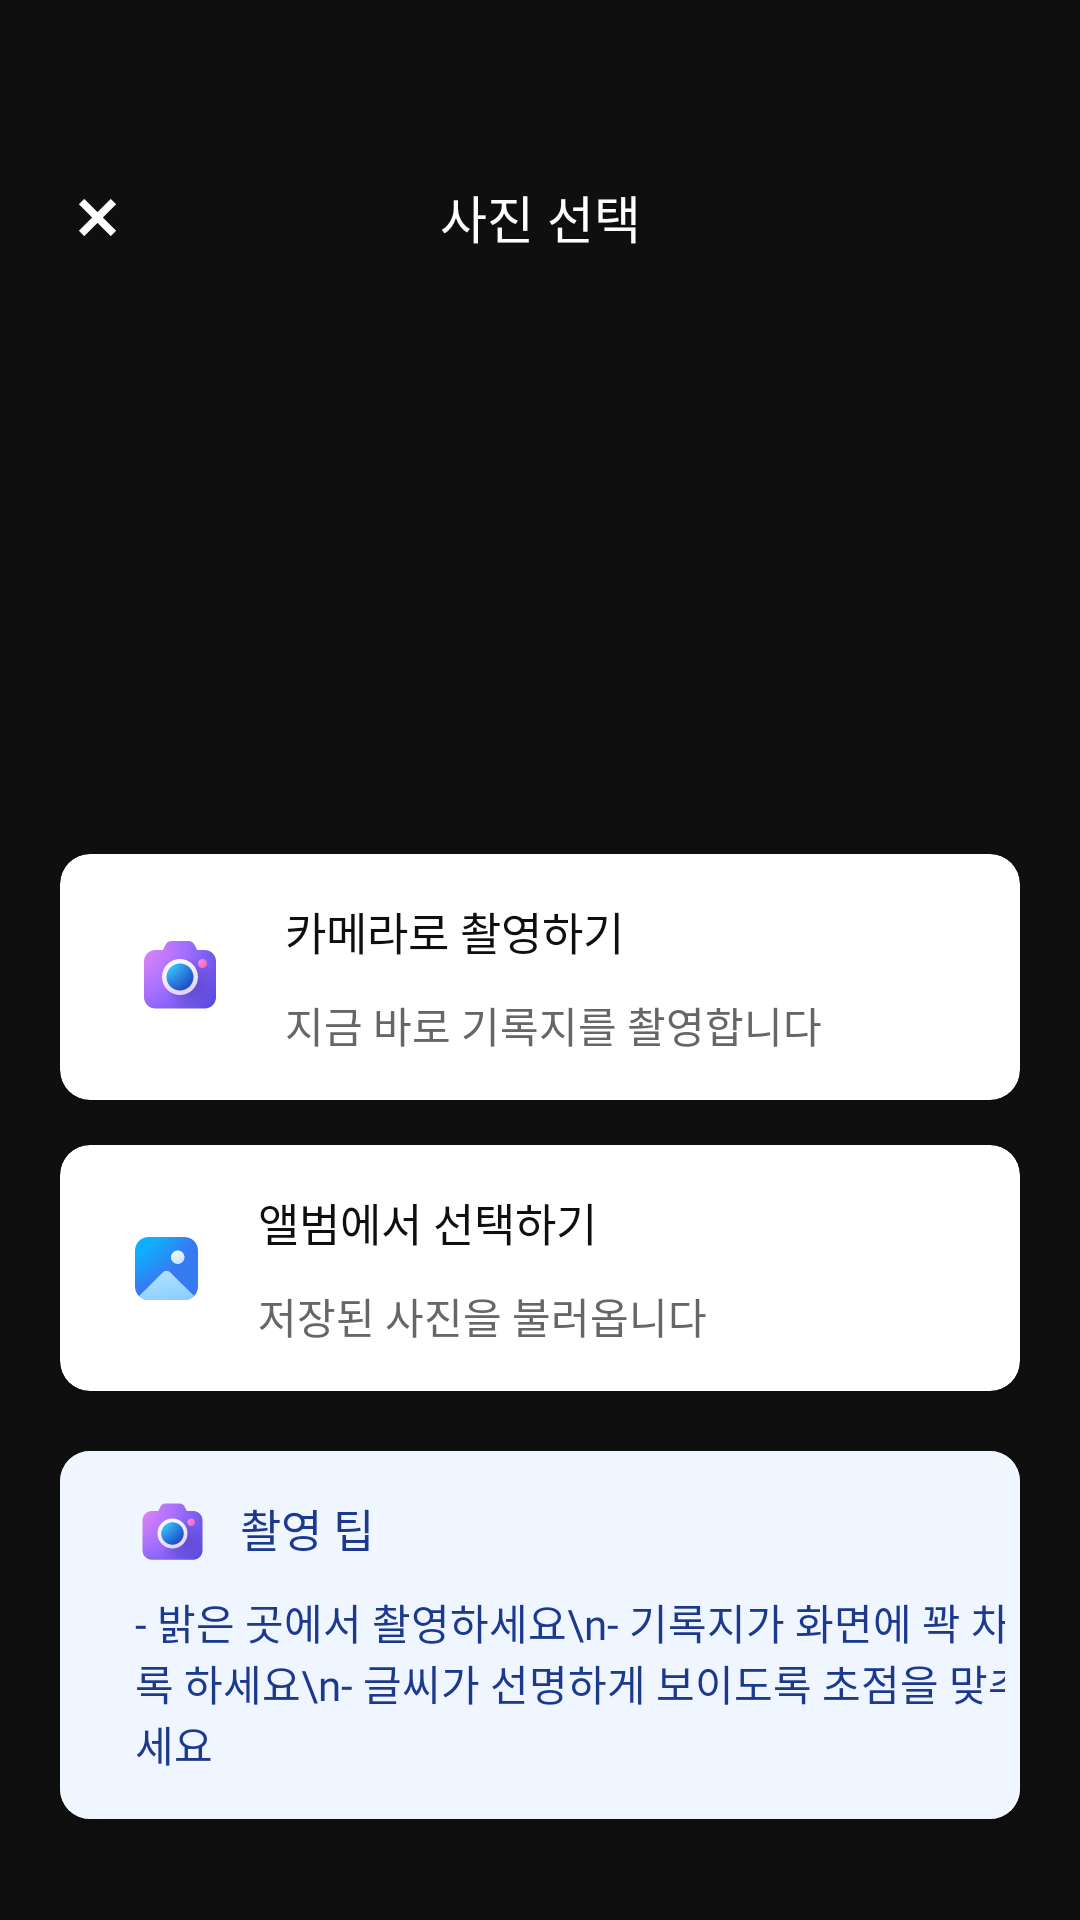

Screen size 1080x1920. Icon name, then its center in pixels as (x,y):
album sv: (166,1268)
camera sv: (180,975)
close sv: (97,217)
